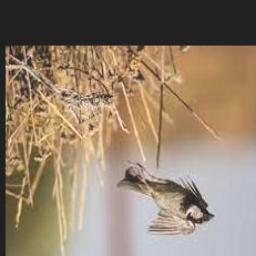Sparrow: (116, 161, 214, 237)
